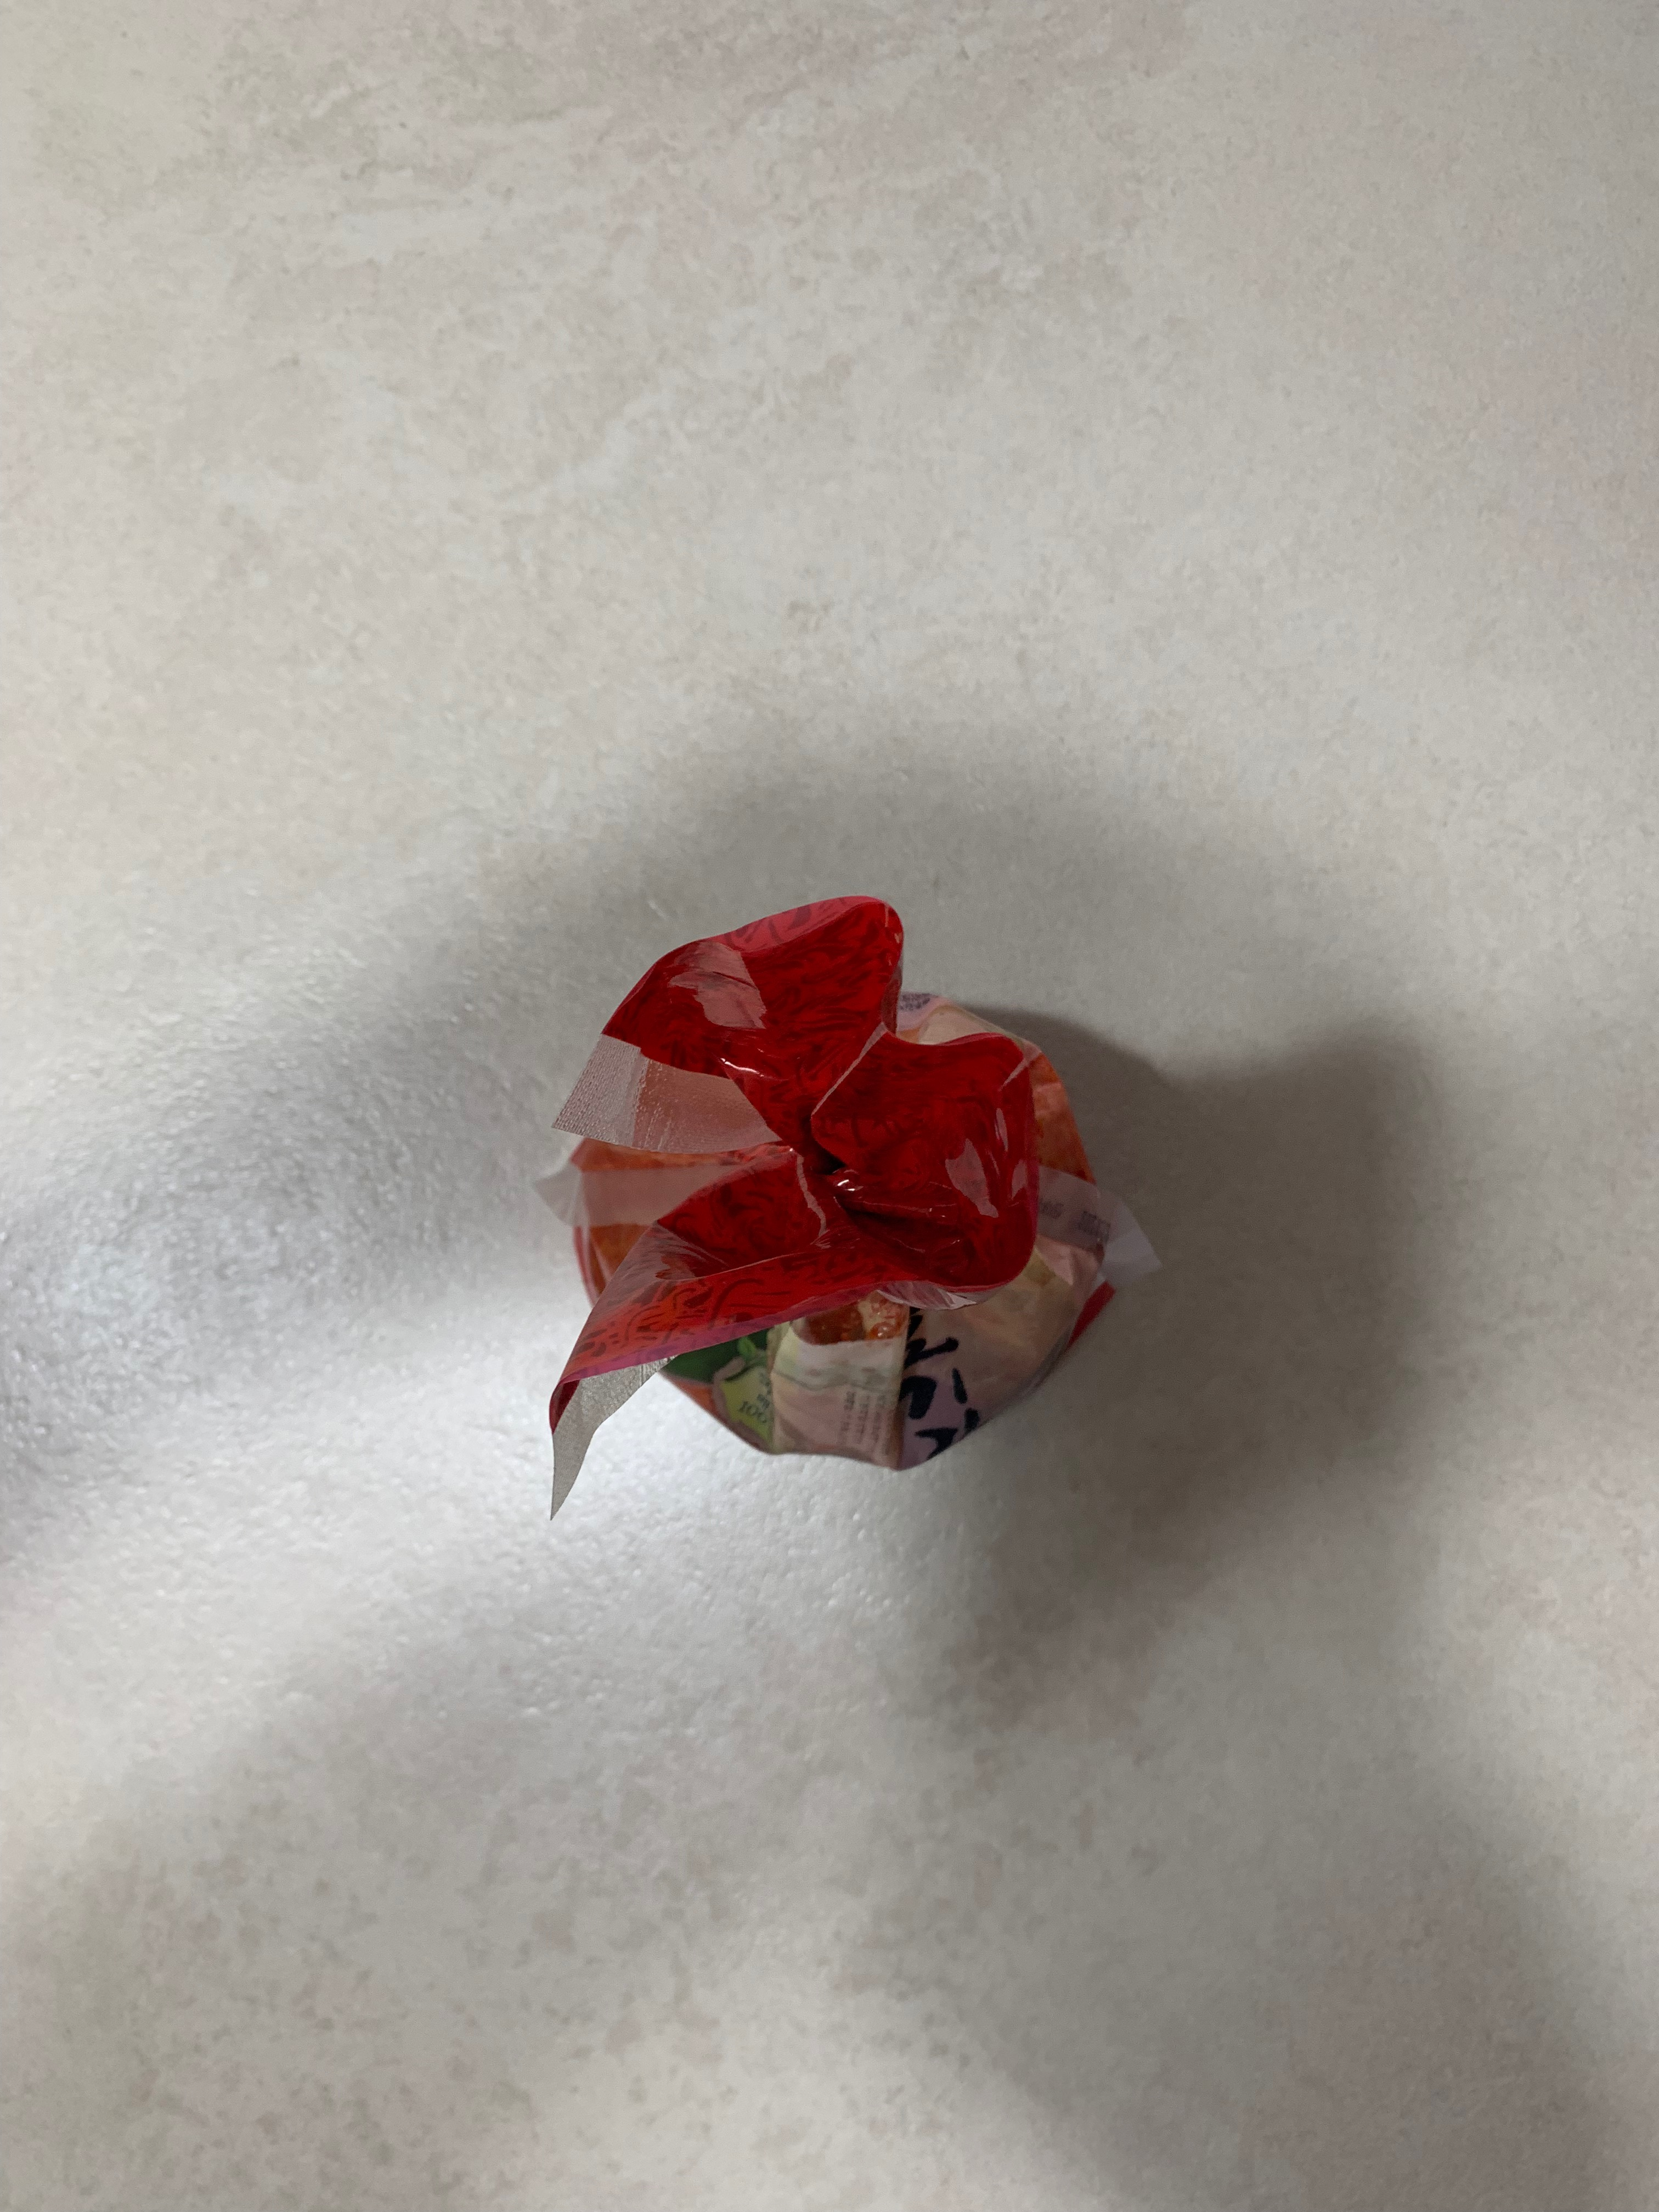kimchi: (547, 900, 1126, 1479)
